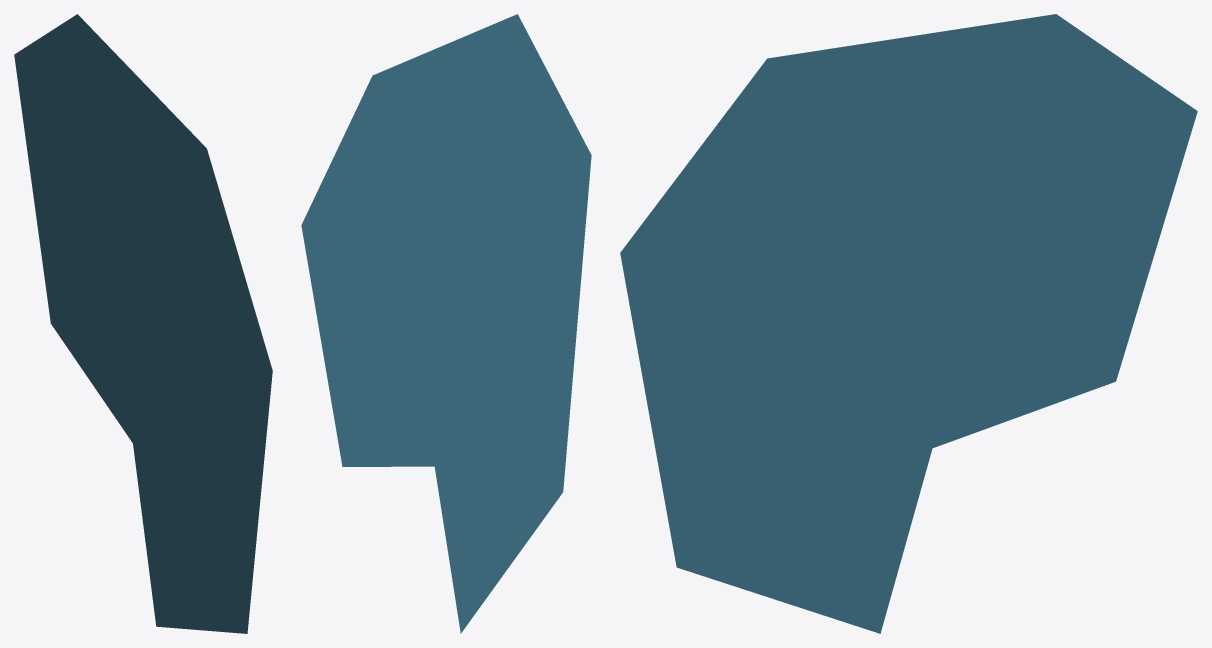
The model's file is NexusC_Cloth_19.fbx.
3 views of the same model, side by side, from view 1: azimuth 30°, elevation 25°; view 2: azimuth 150°, elevation 25°; view 3: azimuth 270°, elevation 25° (orthographic). The views are drawn at different scales.
Parts seen in each view (by area): view 1: polySurface29; view 2: polySurface29; view 3: polySurface29.
Part boxes in pixels (left/top/right/bottom): polySurface29: left=14, top=14, right=272, bottom=633; polySurface29: left=301, top=14, right=591, bottom=633; polySurface29: left=620, top=14, right=1197, bottom=633.
Size of the model in its own units: 5.68e-14 by 54.82 by 46.29.
